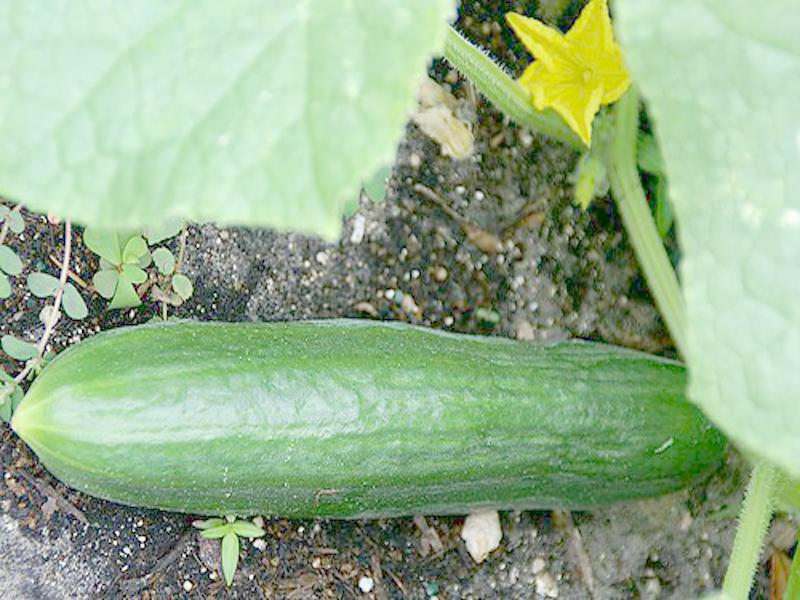Cucumber: (9, 319, 729, 519)
